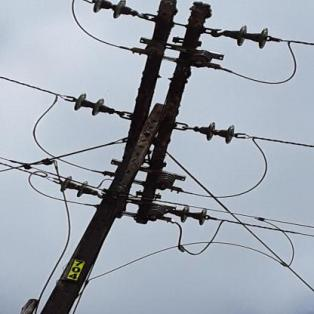Poste: (40, 101, 170, 314)
